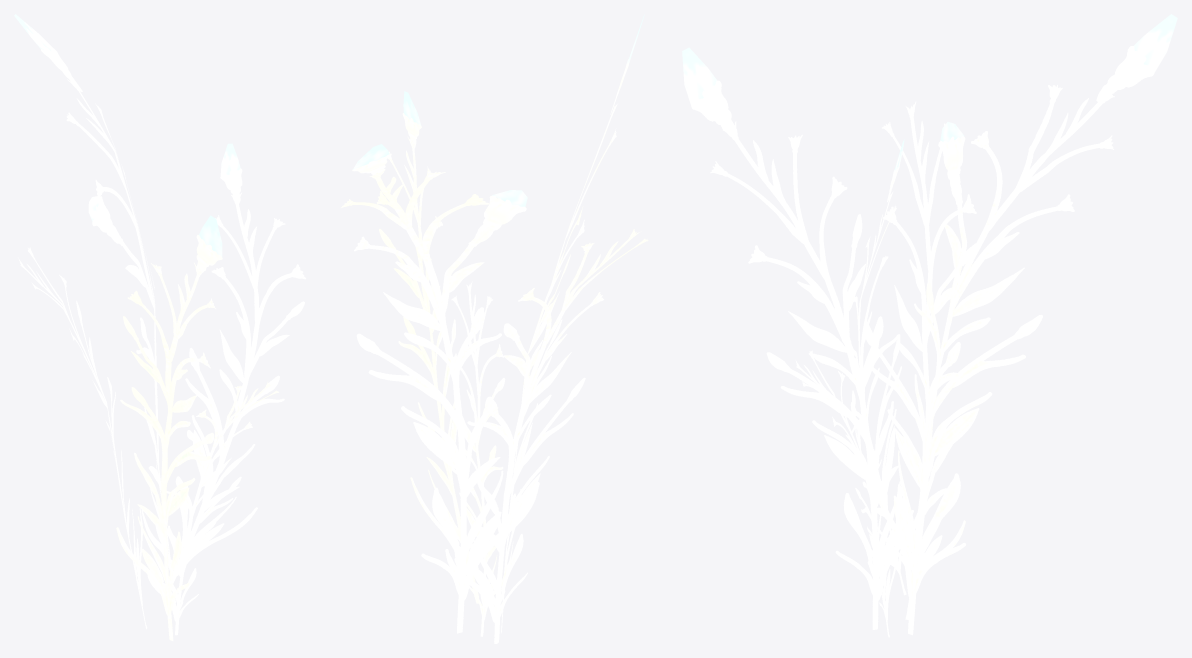
3 renders of one model, left to right at view 1: azimuth 30°, elevation 25°; view 2: azimuth 150°, elevation 25°; view 3: azimuth 270°, elevation 25°, orthographic. The views are drawn at different scales.
Visible parts, largest first — view 1: SM_Flax_02v3_LOD0; view 2: SM_Flax_02v3_LOD0; view 3: SM_Flax_02v3_LOD0.
Part boxes in pixels (x1=…): SM_Flax_02v3_LOD0: x1=14, y1=14, x2=305, y2=640; SM_Flax_02v3_LOD0: x1=341, y1=14, x2=648, y2=643; SM_Flax_02v3_LOD0: x1=682, y1=14, x2=1177, y2=637.
Bounding box in the file's own units: 0.6566 × 1.26 × 0.9344.
Materials: 1 (1 with a texture image).
